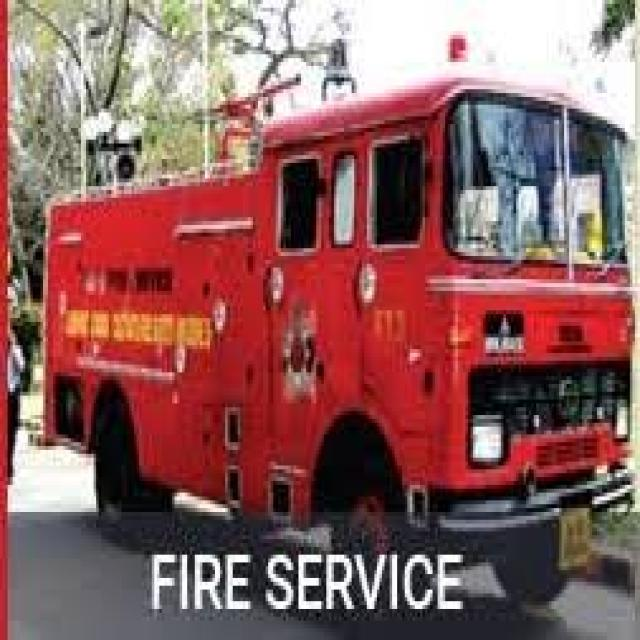Fire_brigade: (23, 54, 640, 558)
